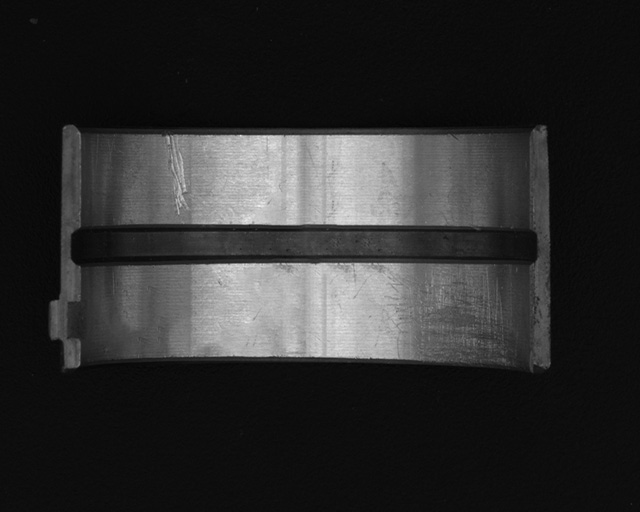gap: (70, 226, 538, 269)
nick: (163, 133, 191, 216)
scratch: (368, 263, 519, 369)
